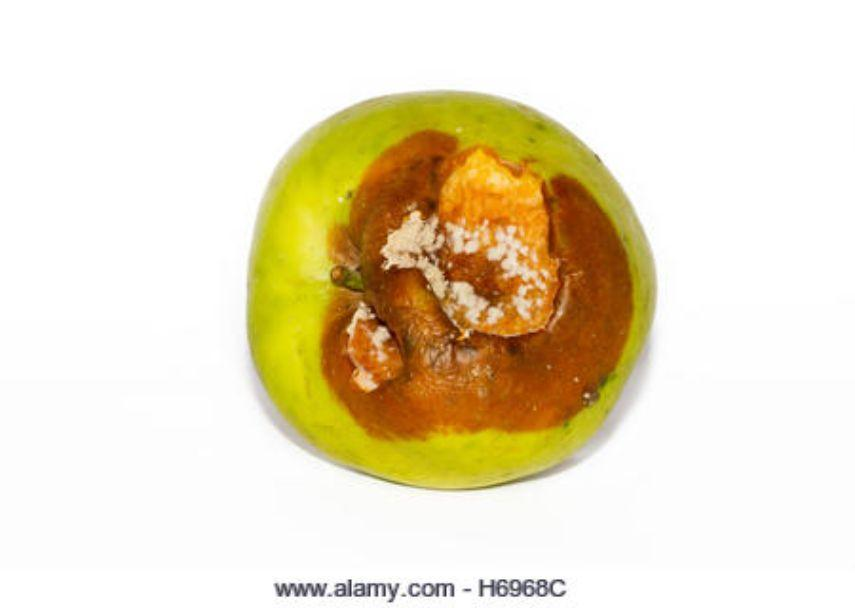ROT: (239, 74, 656, 502)
